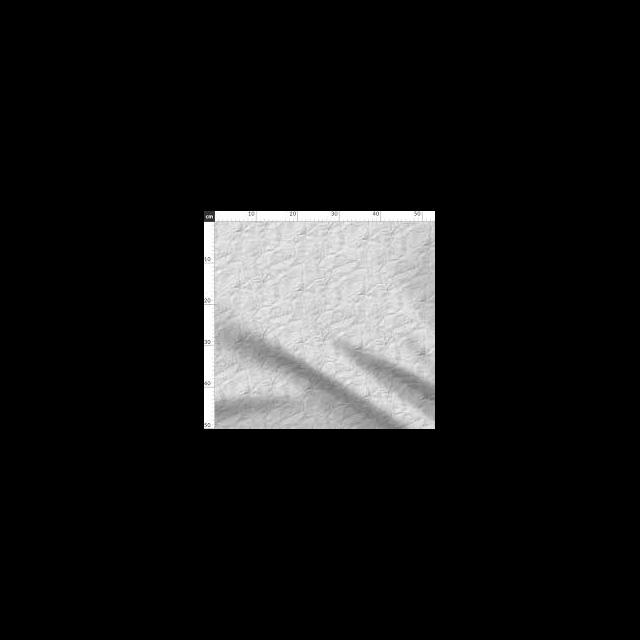paper: (213, 219, 434, 428)
